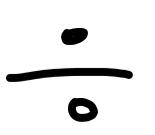div: (5, 29, 133, 123)
